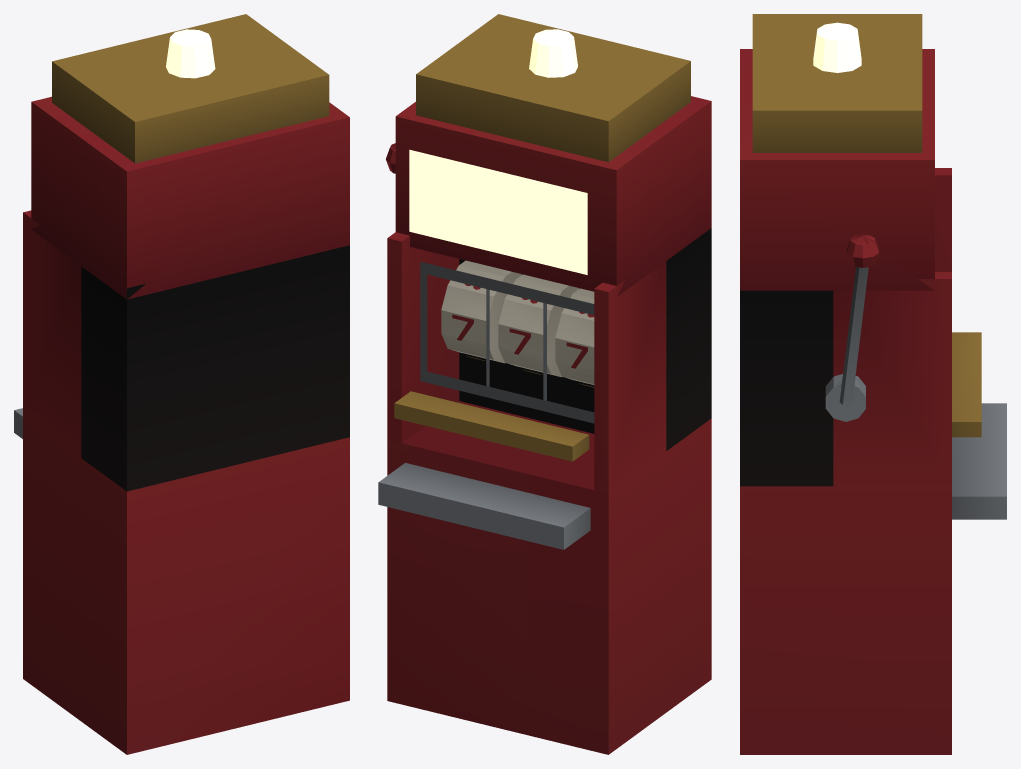
The model's file is slot_machine.glb.
3 views of the same model, side by side, from view 1: azimuth 30°, elevation 25°; view 2: azimuth 150°, elevation 25°; view 3: azimuth 270°, elevation 25° (orthographic). The views are drawn at different scales.
Visible parts, largest first — view 1: slot_machine; view 2: slot_machine, reel_2, reel_1, reel_0; view 3: slot_machine, lever.
Part boxes in pixels (x1,y1,x2,y2): slot_machine: (14, 14, 349, 754); slot_machine: (378, 14, 711, 754); reel_2: (441, 260, 521, 363); reel_1: (498, 274, 578, 377); reel_0: (555, 288, 594, 387); slot_machine: (740, 14, 1006, 754); lever: (839, 234, 878, 405).
Bounding box in the file's own units: 0.74 × 1.76 × 0.63.
